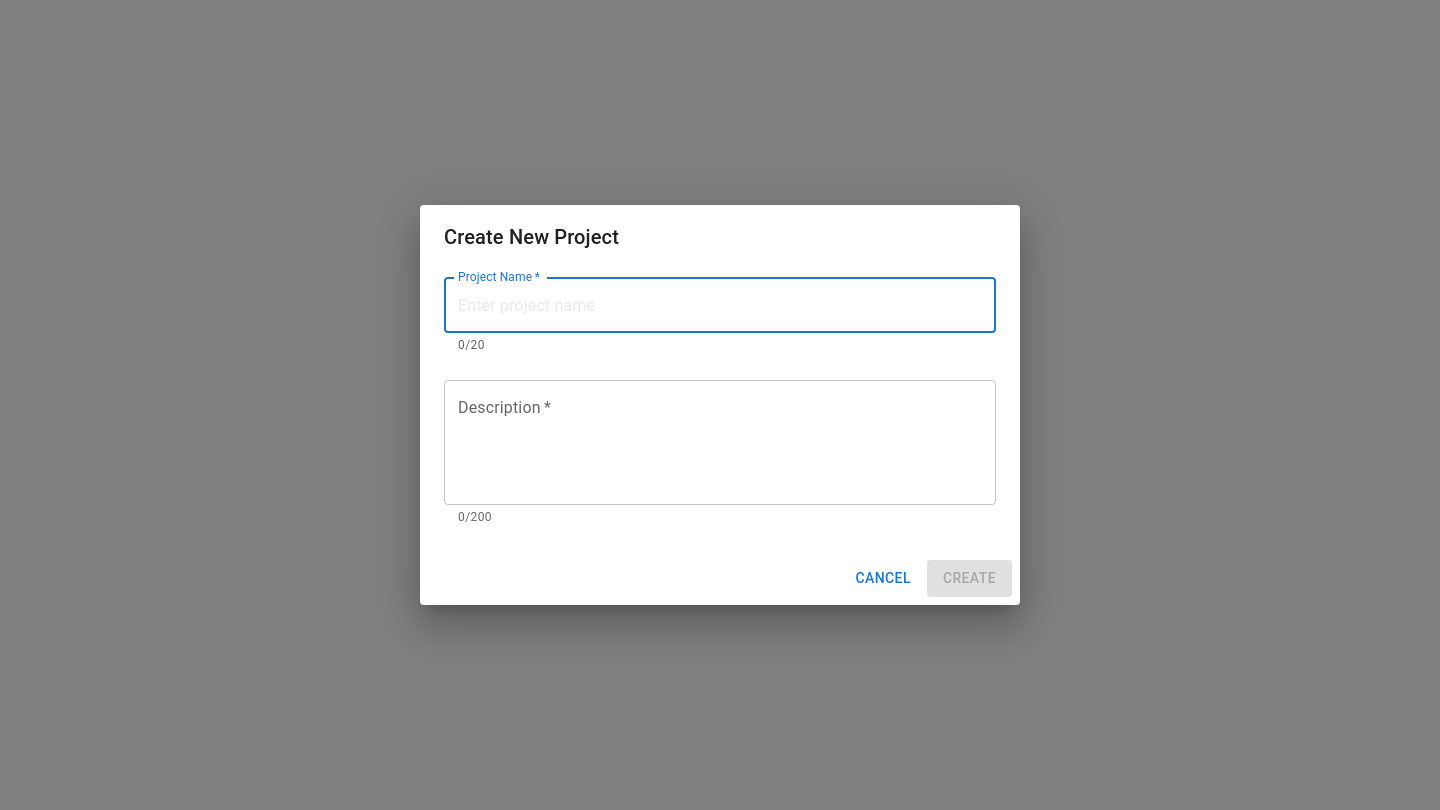
CreateProjectDialog › should enable Create button when both fields are filled
Type "Test Project" into the field with placeholder "Enter project name" at (720, 305), box [444,277,996,333]
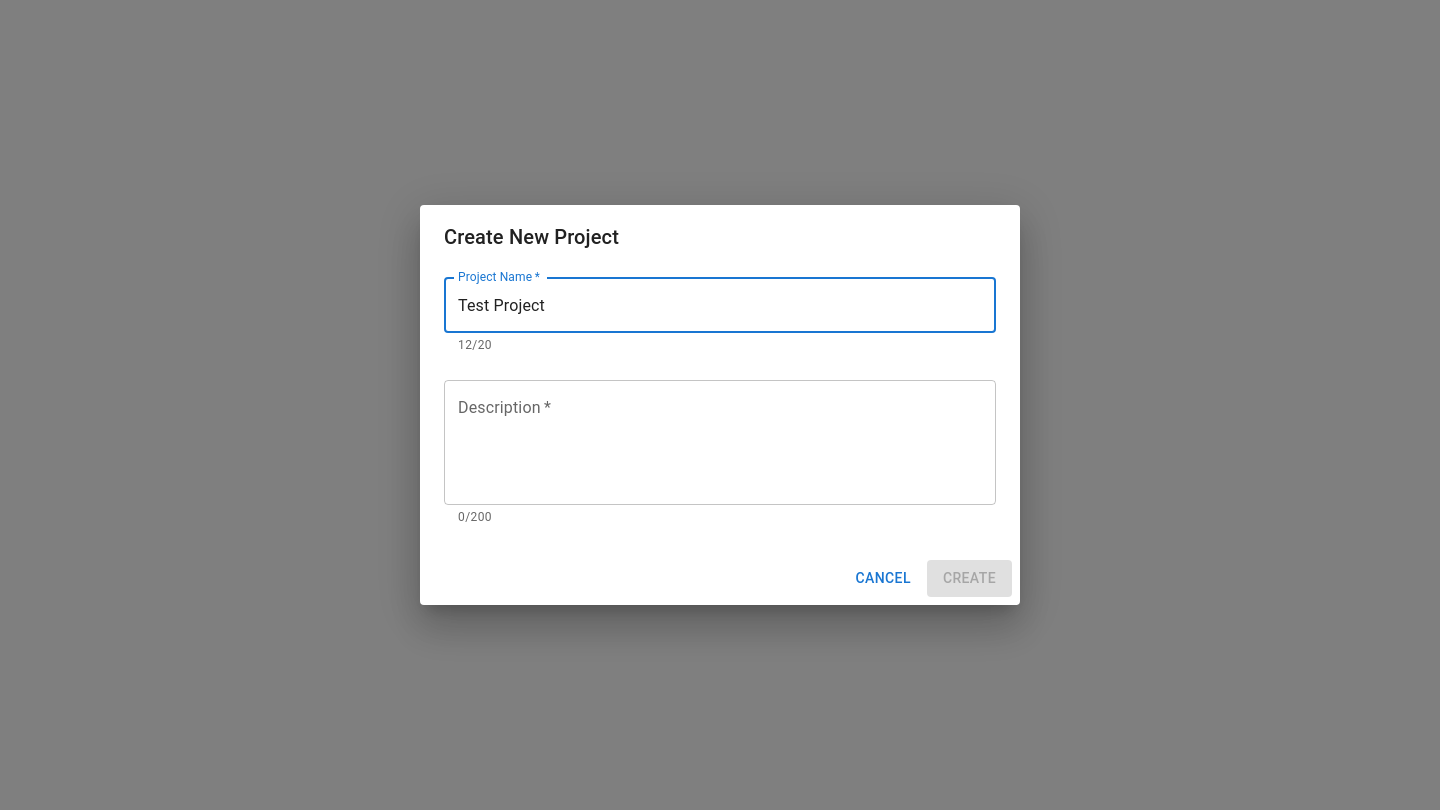
Type "Test Description" into the text box with placeholder "Enter project description" at (720, 443), box [458,397,982,489]
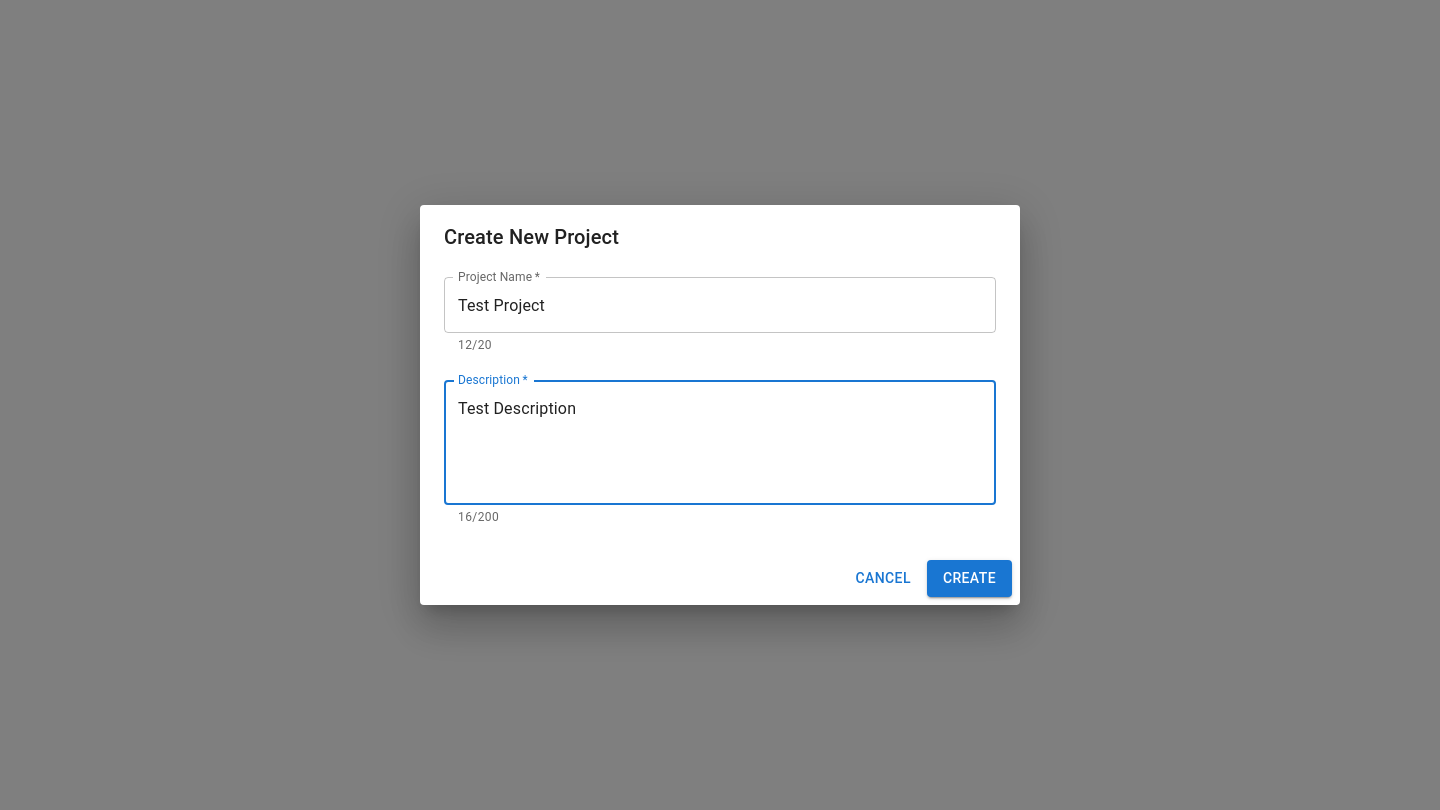
Check: the button "Create" is enabled, box [927,560,1012,597]
